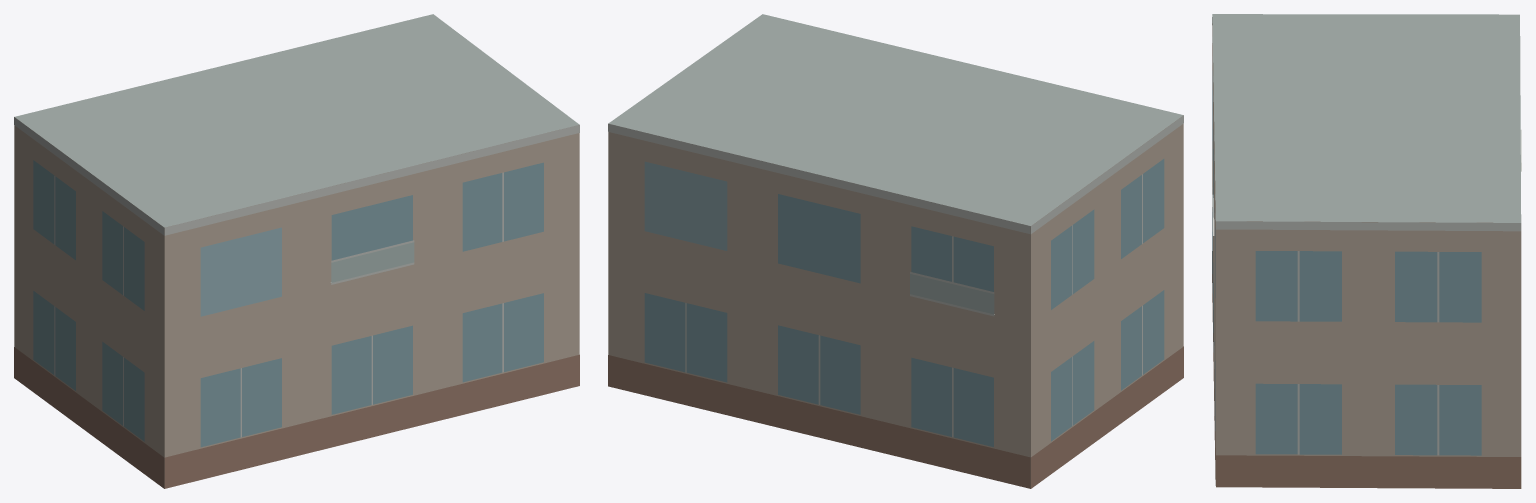
Rendered from survey-upis-32506019.glb.
3 renders of one model, left to right at view 1: azimuth 30°, elevation 25°; view 2: azimuth 150°, elevation 25°; view 3: azimuth 270°, elevation 25°, orthographic.
Parts seen in each view (by area): view 1: survey-upis-32506019.tmp; view 2: survey-upis-32506019.tmp; view 3: survey-upis-32506019.tmp.
Part boxes in pixels (x1,y1,x2,y2): survey-upis-32506019.tmp: (14,14,579,488); survey-upis-32506019.tmp: (608,14,1183,488); survey-upis-32506019.tmp: (1212,14,1521,488).
Size of the model in its own units: 13.15 by 7.8 by 8.24.
